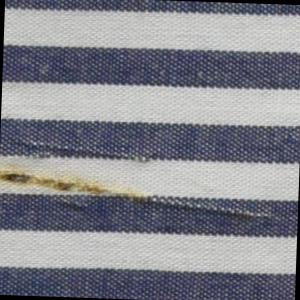Damage: (1, 170, 278, 232), (7, 138, 184, 166)
Oil Stain: (1, 169, 155, 210)
